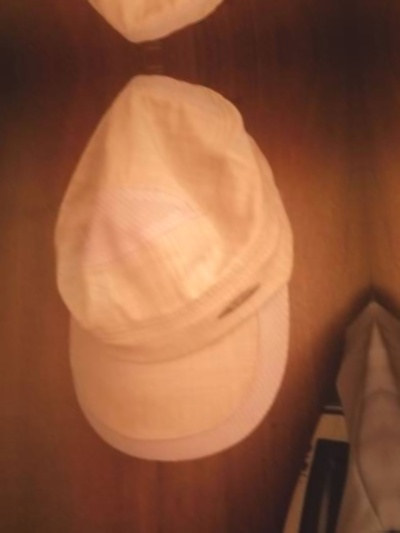Hat: (8, 66, 317, 483), (0, 0, 281, 51), (386, 0, 400, 16)
